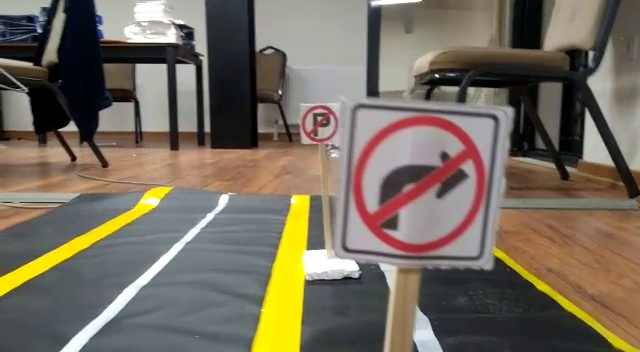park_yapilmaz: (300, 102, 340, 144)
saga_donulmez: (351, 109, 485, 253)
